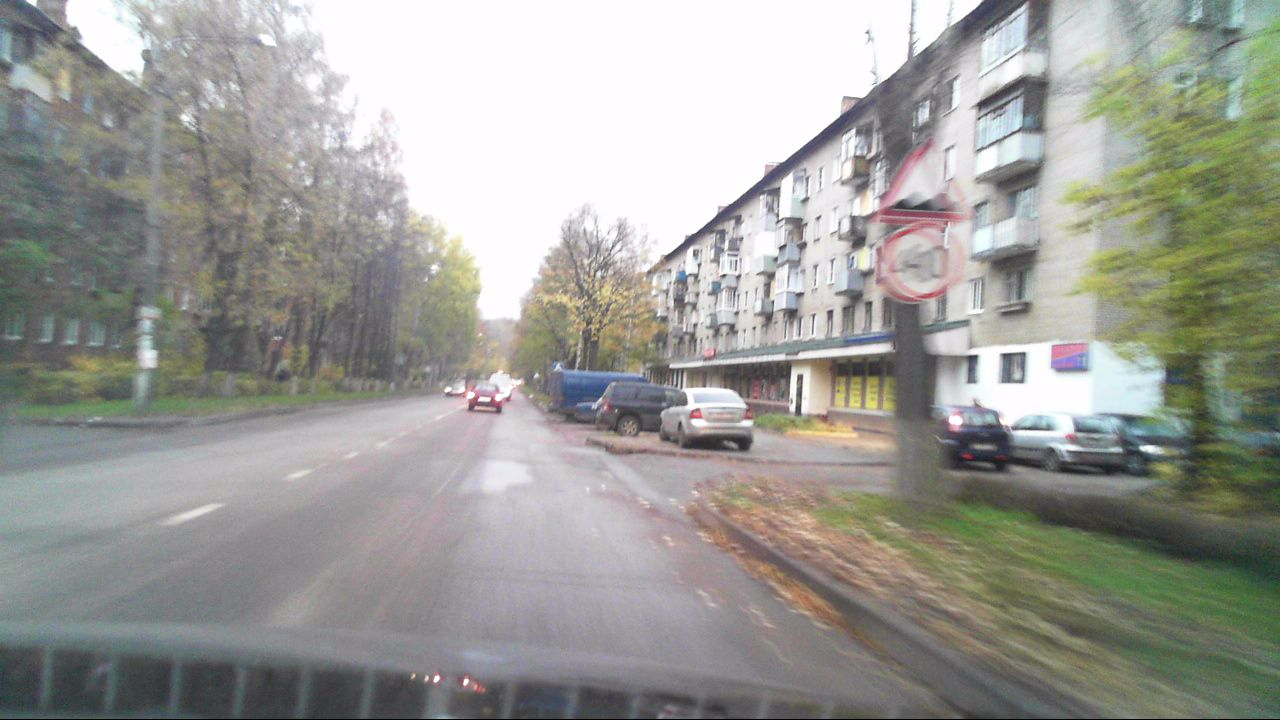speed_warning_40: (886, 224, 959, 298)
